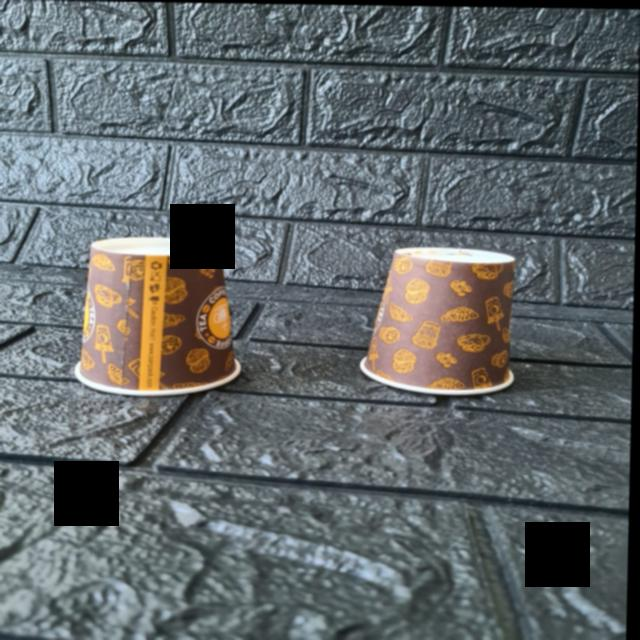cups: (74, 229, 254, 392), (360, 243, 517, 388)
